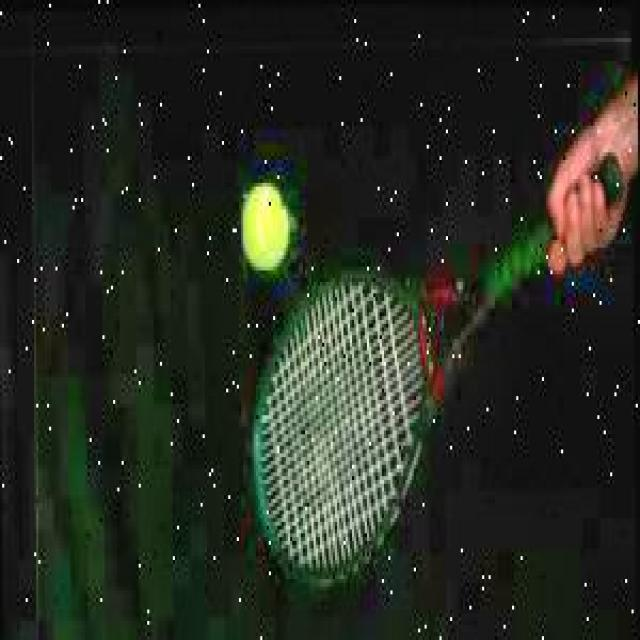tennis-ball: (244, 179, 300, 271)
